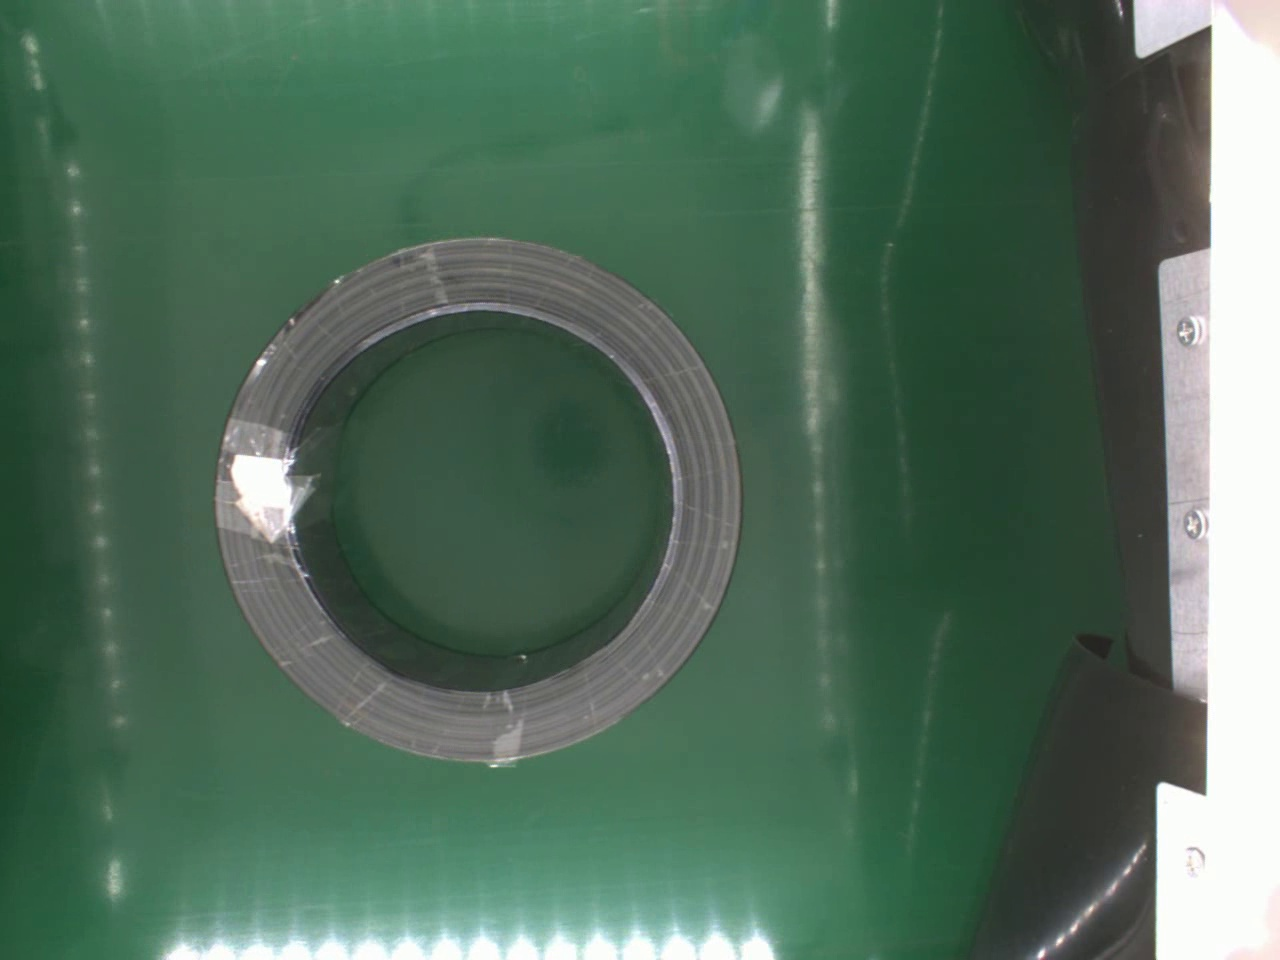black: (211, 227, 743, 764)
